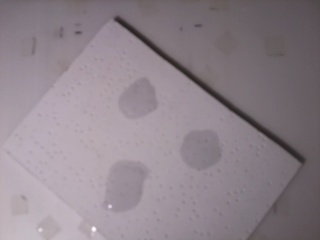Water_detected: (185, 138, 218, 167), (123, 78, 152, 110), (118, 170, 144, 196)
